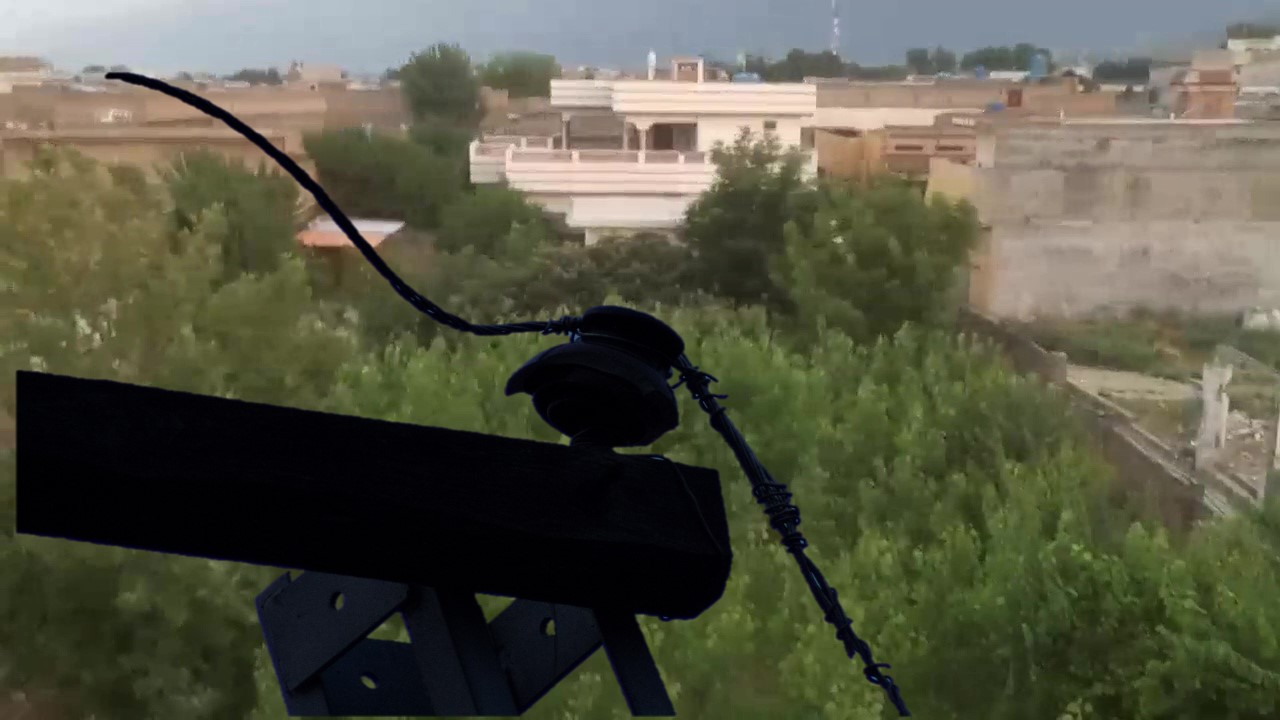defect_pin: (502, 303, 695, 450)
